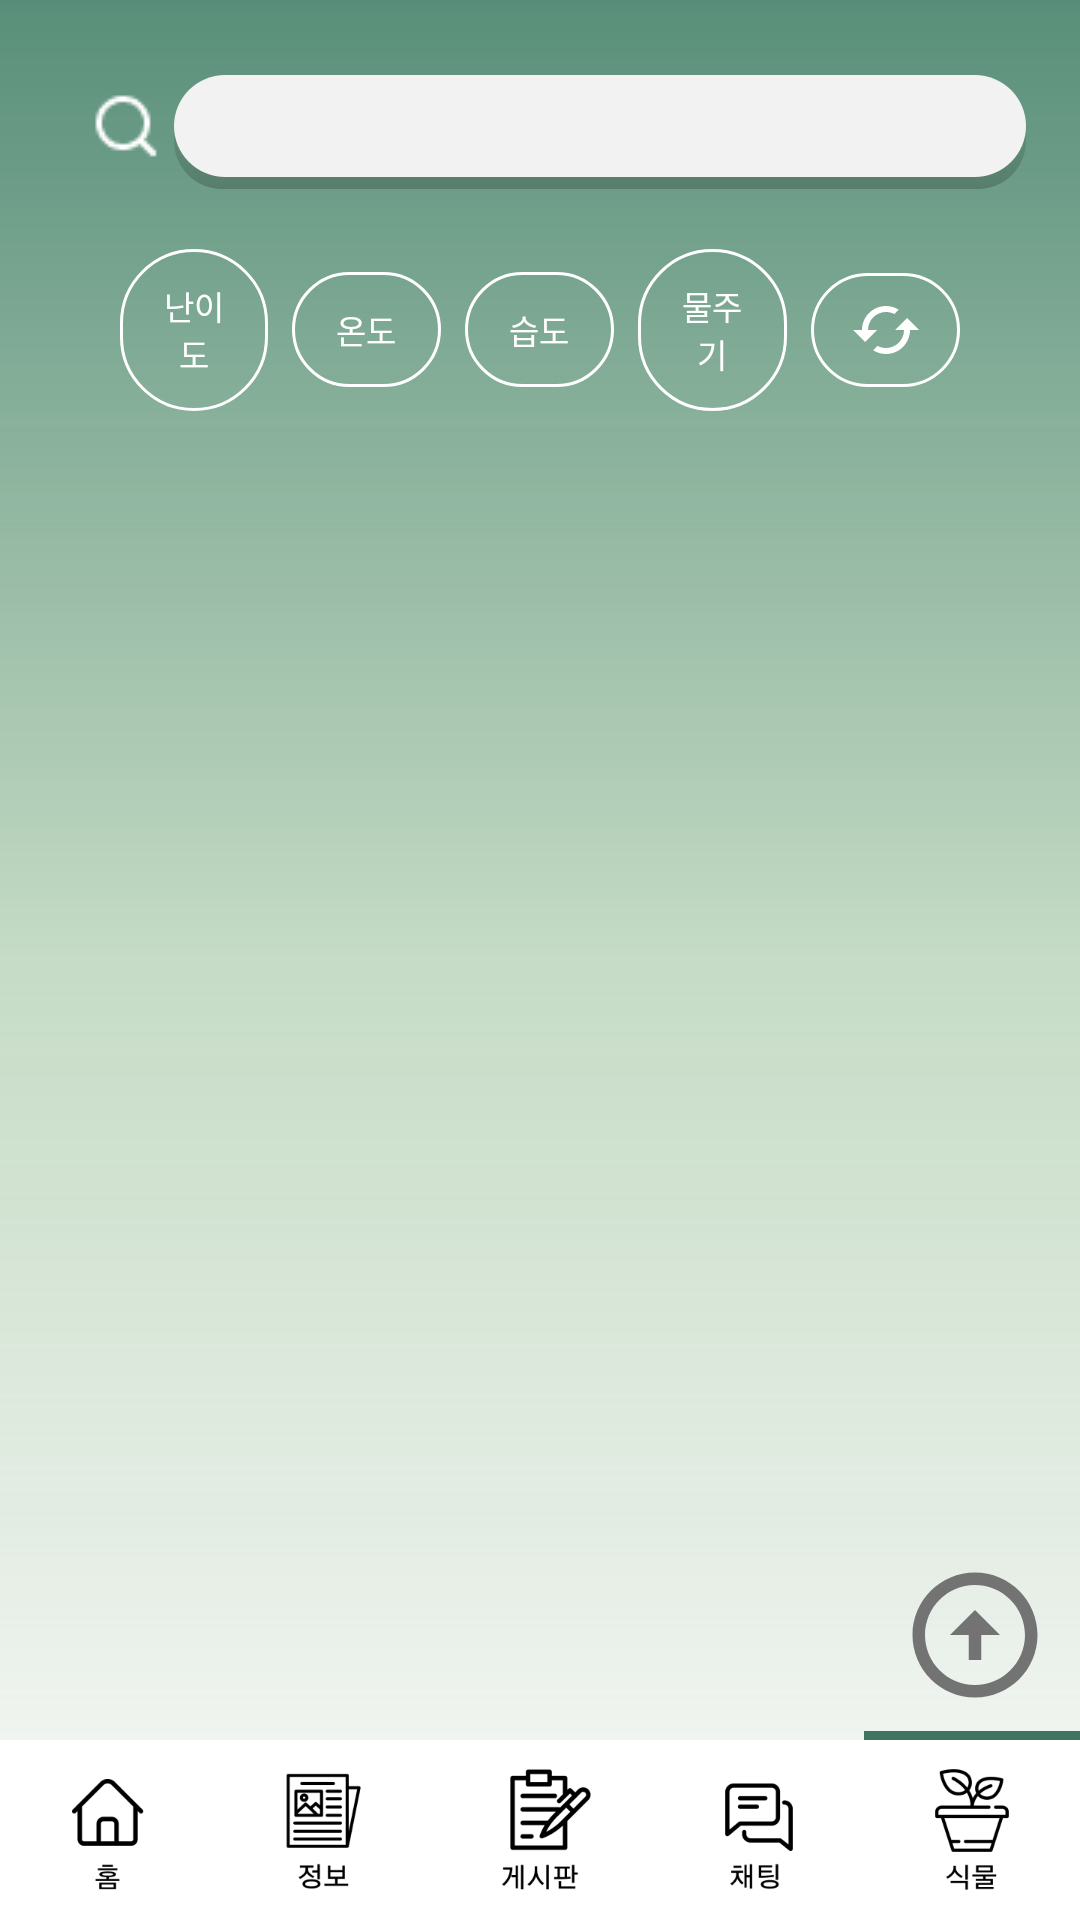

Where to tap for icons on this 1080*1920 app screen, as (x=x, y=y):
cached: (x=885, y=330)
Scroll To Top: (x=975, y=1635)
